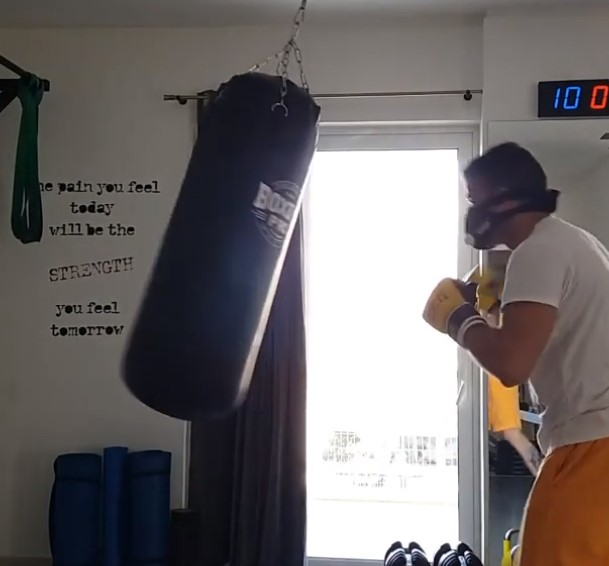face_with_mask: (462, 143, 556, 246)
